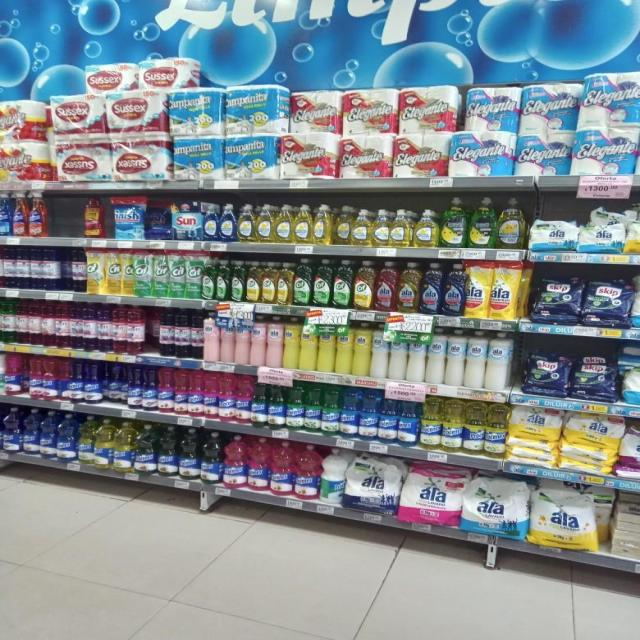ala_conc_amarillo: (398, 261, 419, 314)
ala_conc_azul: (442, 262, 464, 316), (420, 262, 442, 315)
ala_conc_rojo: (375, 260, 397, 312)
ala_crem_amarillo: (354, 321, 371, 377), (283, 316, 300, 369), (300, 319, 317, 371), (336, 322, 353, 374), (318, 321, 335, 373)
ala_crem_blanco: (486, 331, 513, 391), (465, 329, 486, 388), (446, 328, 464, 386), (427, 328, 445, 384), (408, 329, 427, 382), (390, 328, 408, 380), (372, 324, 389, 379)
ala_crem_rosado: (267, 315, 283, 368), (250, 315, 266, 366), (204, 313, 219, 362), (235, 316, 250, 364), (220, 315, 234, 363)
ala_sachet_amarillo: (490, 259, 522, 320), (465, 260, 490, 318)
cif_conc_bot_amarilla: (354, 260, 375, 310), (277, 262, 293, 305), (246, 261, 261, 303), (262, 262, 276, 304)
cif_conc_botella_verde: (333, 259, 353, 309), (313, 258, 332, 308), (294, 259, 312, 306), (231, 260, 245, 302), (216, 259, 230, 301), (202, 256, 215, 300)
cif_conc_sachet_amarillo: (86, 249, 104, 294), (105, 250, 120, 295), (121, 250, 134, 296)
cif_conc_sachet_verde: (134, 250, 152, 297), (169, 252, 185, 298), (153, 250, 168, 298), (186, 253, 201, 299)
magistral_con_amarillo: (497, 197, 527, 249), (414, 209, 439, 248), (390, 208, 412, 247), (313, 204, 333, 245), (293, 204, 312, 244), (352, 208, 371, 246), (256, 204, 274, 243), (274, 204, 292, 243), (334, 205, 351, 245), (372, 208, 389, 247), (238, 204, 255, 242)
magistral_con_azul: (0, 0, 31, 102), (219, 203, 236, 242), (203, 203, 219, 241)
